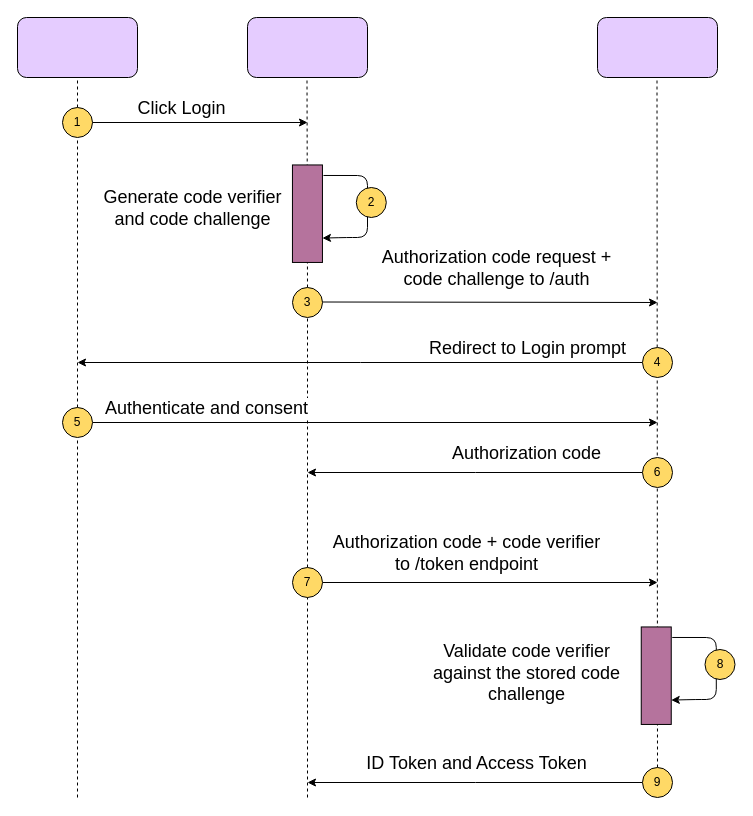
Some shapes in this 753 by 816 pixel diagram are drawn without their labels. The centre of each missing label's shape, as x and y in pixels:
"Authorization Server" belongs at point 657,47.
"Client App" belongs at point 307,47.
"User" belongs at point 77,47.
